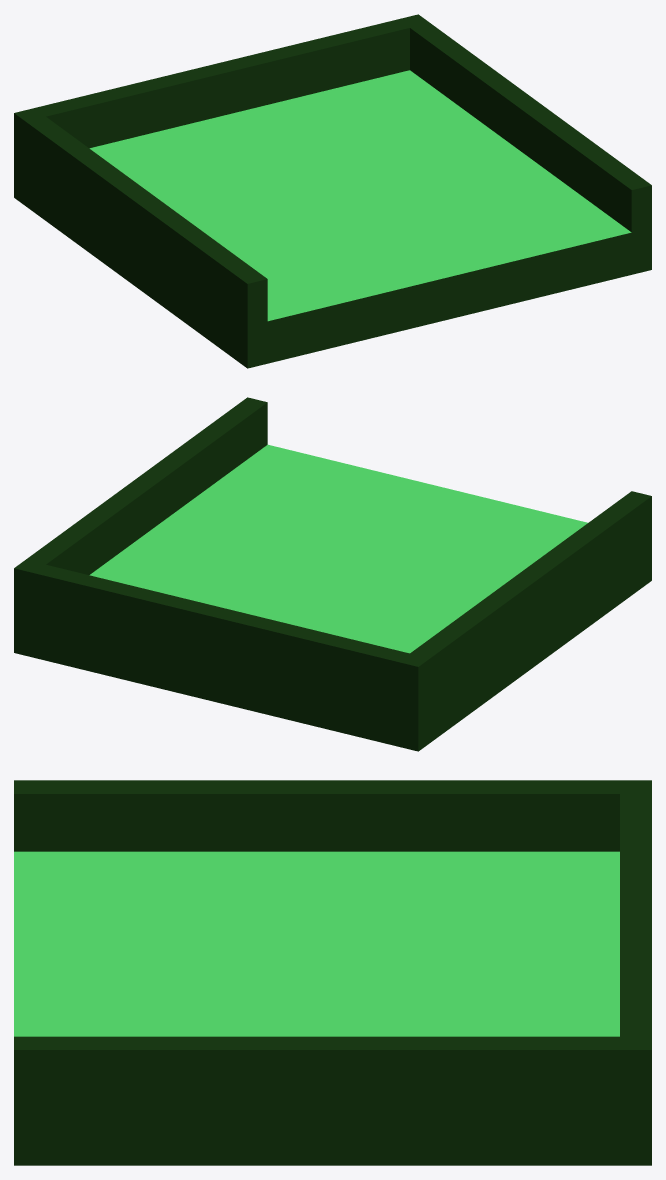
The model's file is MG End.fbx.
3 renders of one model, top to bottom at view 1: azimuth 30°, elevation 25°; view 2: azimuth 150°, elevation 25°; view 3: azimuth 270°, elevation 25°, orthographic. The views are drawn at different scales.
Visible parts, largest first — view 1: MG End; view 2: MG End; view 3: MG End.
Boxes of the visible parts, left/top/right/bottom form: MG End: left=14, top=14, right=651, bottom=368; MG End: left=14, top=397, right=651, bottom=751; MG End: left=14, top=780, right=651, bottom=1165.
Bounding box in the file's own units: 200 × 40 × 200.
